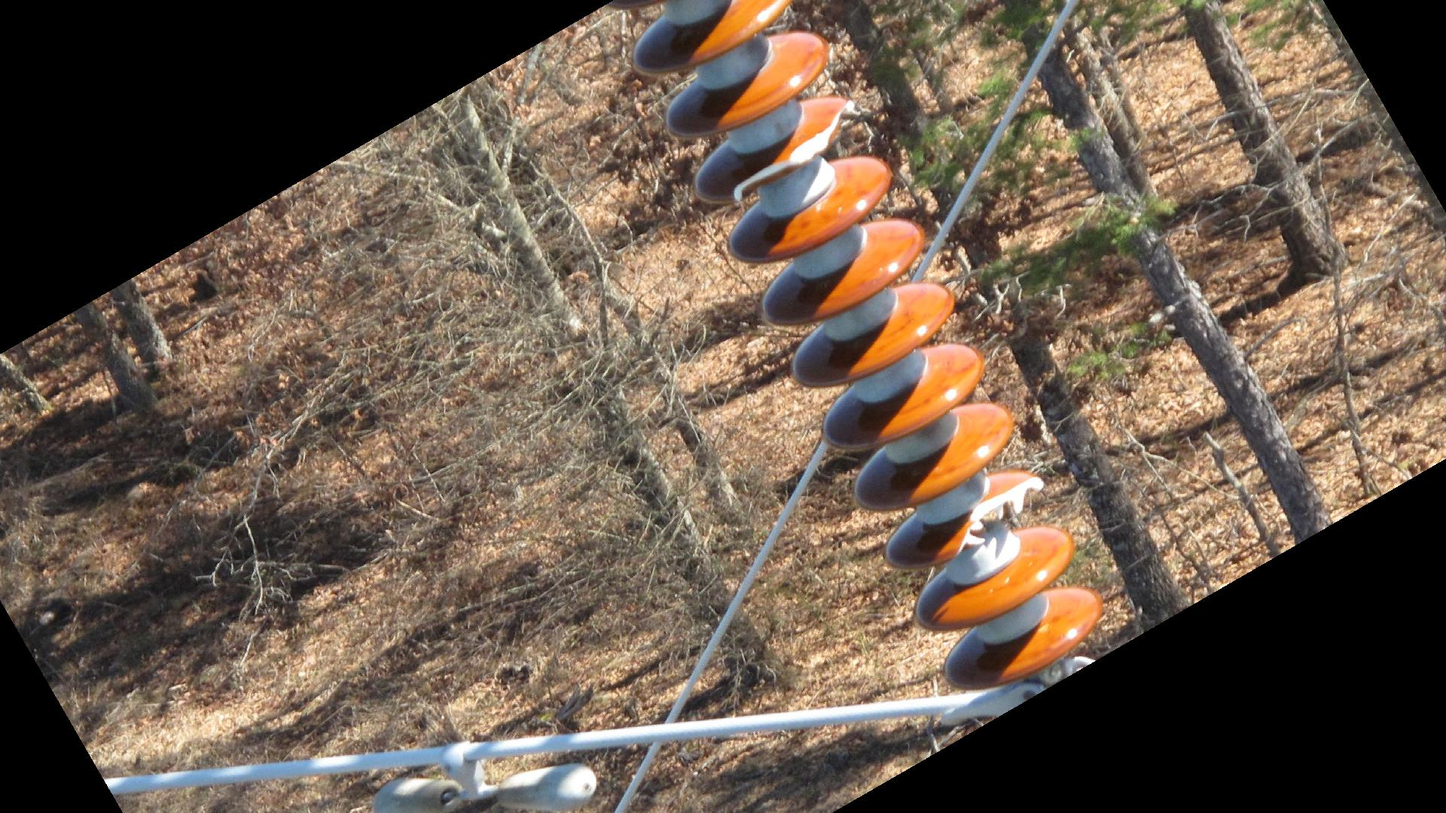insulator: (627, 1, 1110, 695)
insulator_breakage: (723, 93, 859, 209), (944, 471, 1049, 567)
